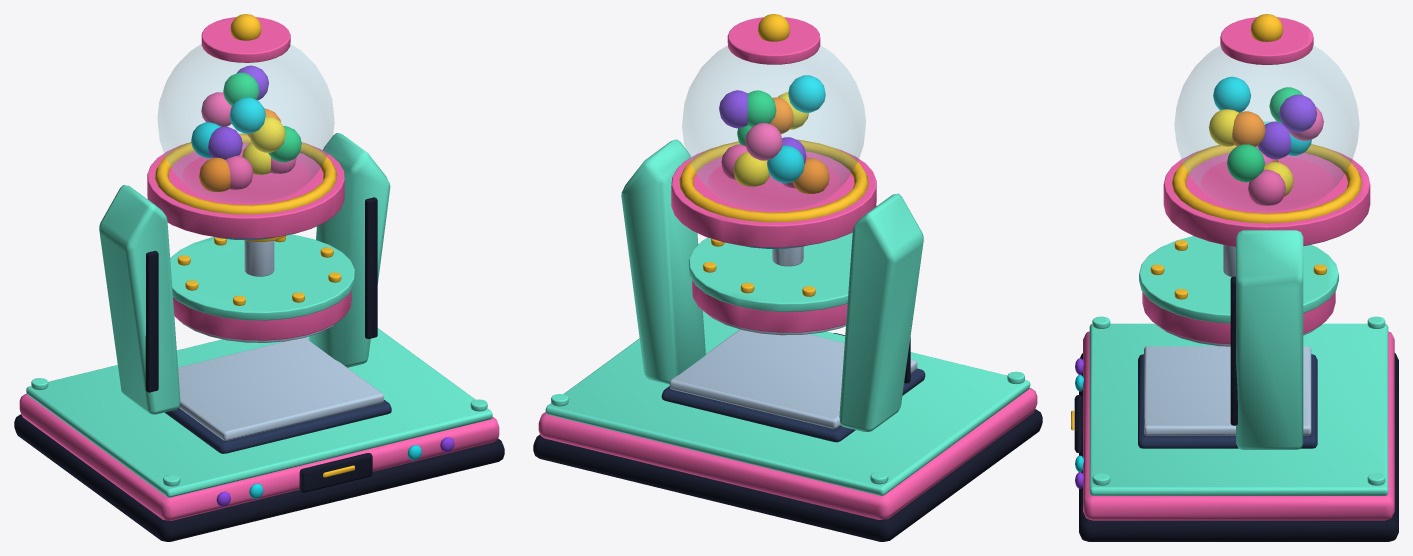
File: GumballGobbler.fbx
3 views of the same model, side by side, from view 1: azimuth 30°, elevation 25°; view 2: azimuth 150°, elevation 25°; view 3: azimuth 270°, elevation 25° (orthographic). The views are drawn at different scales.
Visible parts, largest first — view 1: Frame, Globe, Ram, Gumballs, PistonShaft; view 2: Frame, Globe, Ram, Gumballs; view 3: Frame, Globe, Ram, Gumballs.
Part boxes in pixels (left/top/right/bottom): Frame: left=14, top=14, right=504, bottom=541; Globe: left=157, top=44, right=334, bottom=202; Ram: left=170, top=234, right=354, bottom=342; Gumballs: left=191, top=65, right=301, bottom=191; PistonShaft: left=244, top=240, right=274, bottom=276; Frame: left=533, top=14, right=1042, bottom=541; Globe: left=682, top=45, right=865, bottom=209; Ram: left=688, top=232, right=852, bottom=335; Gumballs: left=719, top=75, right=829, bottom=193; Frame: left=1071, top=14, right=1398, bottom=541; Globe: left=1174, top=46, right=1359, bottom=210; Ram: left=1139, top=236, right=1338, bottom=346; Gumballs: left=1208, top=76, right=1323, bottom=205.
Bounding box in the file's own units: 7.4 × 8.7 × 5.84.
2 materials, 2 textured.
